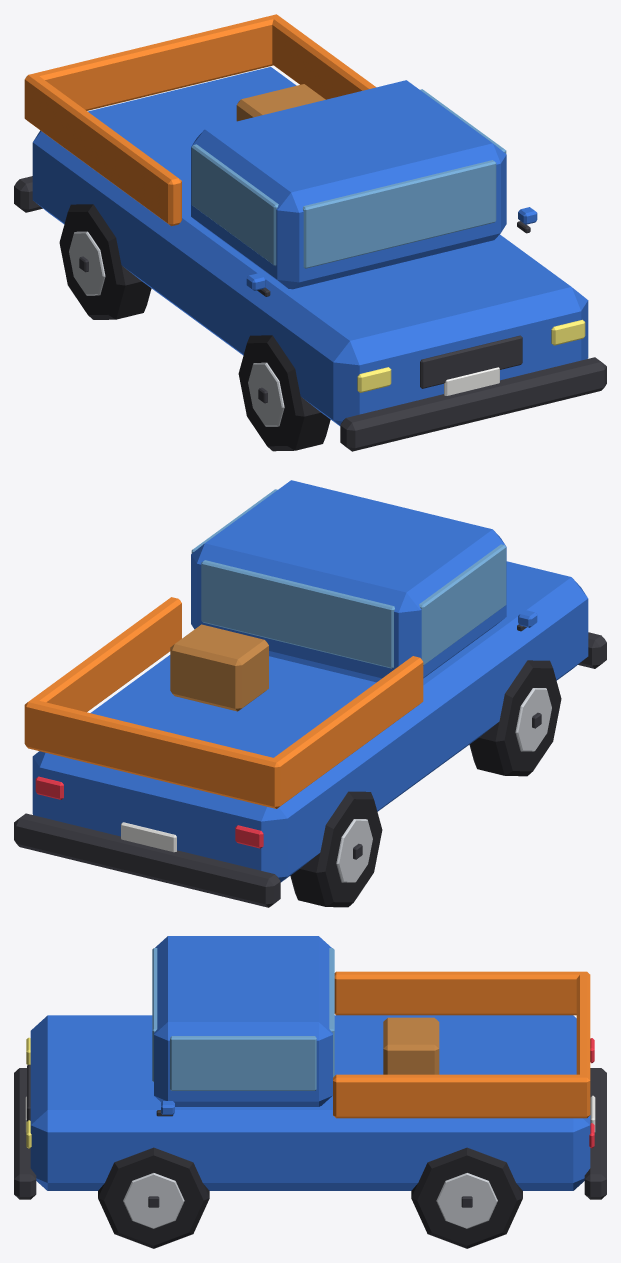
Rendered from BluePickupTruck.fbx.
3 renders of one model, top to bottom at view 1: azimuth 30°, elevation 25°; view 2: azimuth 150°, elevation 25°; view 3: azimuth 270°, elevation 25°, orthographic. The views are drawn at different scales.
Visible parts, largest first — view 1: BluePickupTruck, BluePickupTruck_WheelBR, BluePickupTruck_WheelFR; view 2: BluePickupTruck, BluePickupTruck_WheelBR, BluePickupTruck_WheelFR; view 3: BluePickupTruck, BluePickupTruck_WheelBL, BluePickupTruck_WheelFL.
Part boxes in pixels (x1,y1,x2,y2): BluePickupTruck: [14, 14, 606, 451]; BluePickupTruck_WheelBR: [59, 204, 151, 319]; BluePickupTruck_WheelFR: [238, 335, 330, 451]; BluePickupTruck: [14, 480, 606, 907]; BluePickupTruck_WheelBR: [290, 791, 382, 907]; BluePickupTruck_WheelFR: [469, 660, 561, 776]; BluePickupTruck: [14, 936, 606, 1199]; BluePickupTruck_WheelBL: [411, 1147, 522, 1248]; BluePickupTruck_WheelFL: [98, 1147, 209, 1248].
Size of the model in its own units: 5.15 by 4.25 by 10.6.
1 material, 1 textured.
